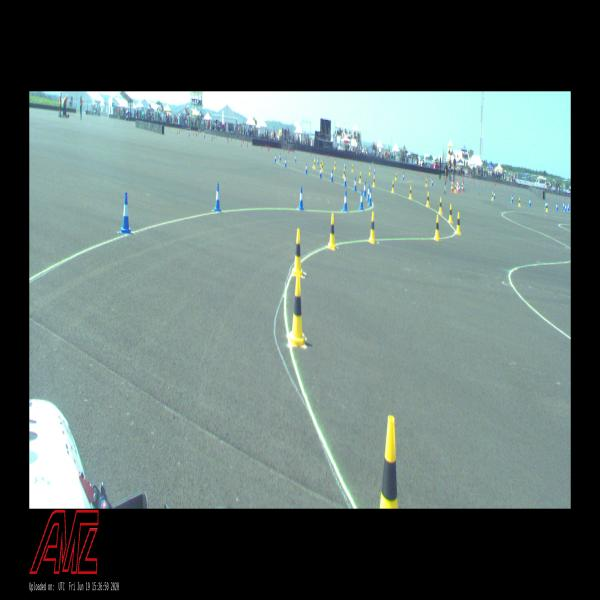blue_cone: (121, 192, 131, 233), (214, 184, 220, 212), (299, 187, 304, 210), (342, 190, 347, 212), (359, 190, 364, 210), (369, 188, 372, 205), (354, 177, 357, 191), (367, 185, 369, 200), (319, 168, 322, 178), (364, 182, 366, 196), (344, 174, 346, 187), (331, 170, 333, 182), (305, 163, 307, 174), (274, 154, 276, 162), (529, 198, 531, 206), (556, 203, 558, 210), (511, 195, 513, 202), (564, 204, 566, 211), (279, 153, 281, 160), (431, 179, 433, 186), (402, 173, 404, 180), (567, 204, 569, 211), (344, 162, 346, 169), (544, 202, 546, 209), (562, 203, 564, 209), (285, 158, 286, 167), (295, 154, 296, 162), (494, 191, 495, 199), (459, 184, 460, 192), (317, 157, 318, 164), (374, 168, 375, 174)
large_orange_cone: (451, 180, 453, 192), (457, 181, 459, 193), (456, 178, 458, 189), (462, 181, 463, 192)
yellow_cone: (380, 415, 398, 509), (289, 275, 306, 347), (292, 229, 303, 276), (328, 213, 336, 249), (369, 212, 376, 243), (434, 215, 440, 240), (448, 204, 453, 223), (456, 212, 460, 234), (438, 198, 442, 214), (426, 192, 430, 206), (410, 185, 412, 199), (518, 198, 521, 206), (491, 192, 494, 200), (392, 181, 394, 192), (359, 172, 361, 183), (373, 176, 375, 187), (343, 168, 345, 178), (314, 159, 316, 168), (334, 161, 336, 170), (320, 159, 322, 168), (425, 178, 427, 186), (546, 203, 548, 211), (454, 184, 456, 192), (321, 162, 322, 172), (352, 164, 353, 172), (369, 168, 370, 176), (395, 173, 396, 180)
